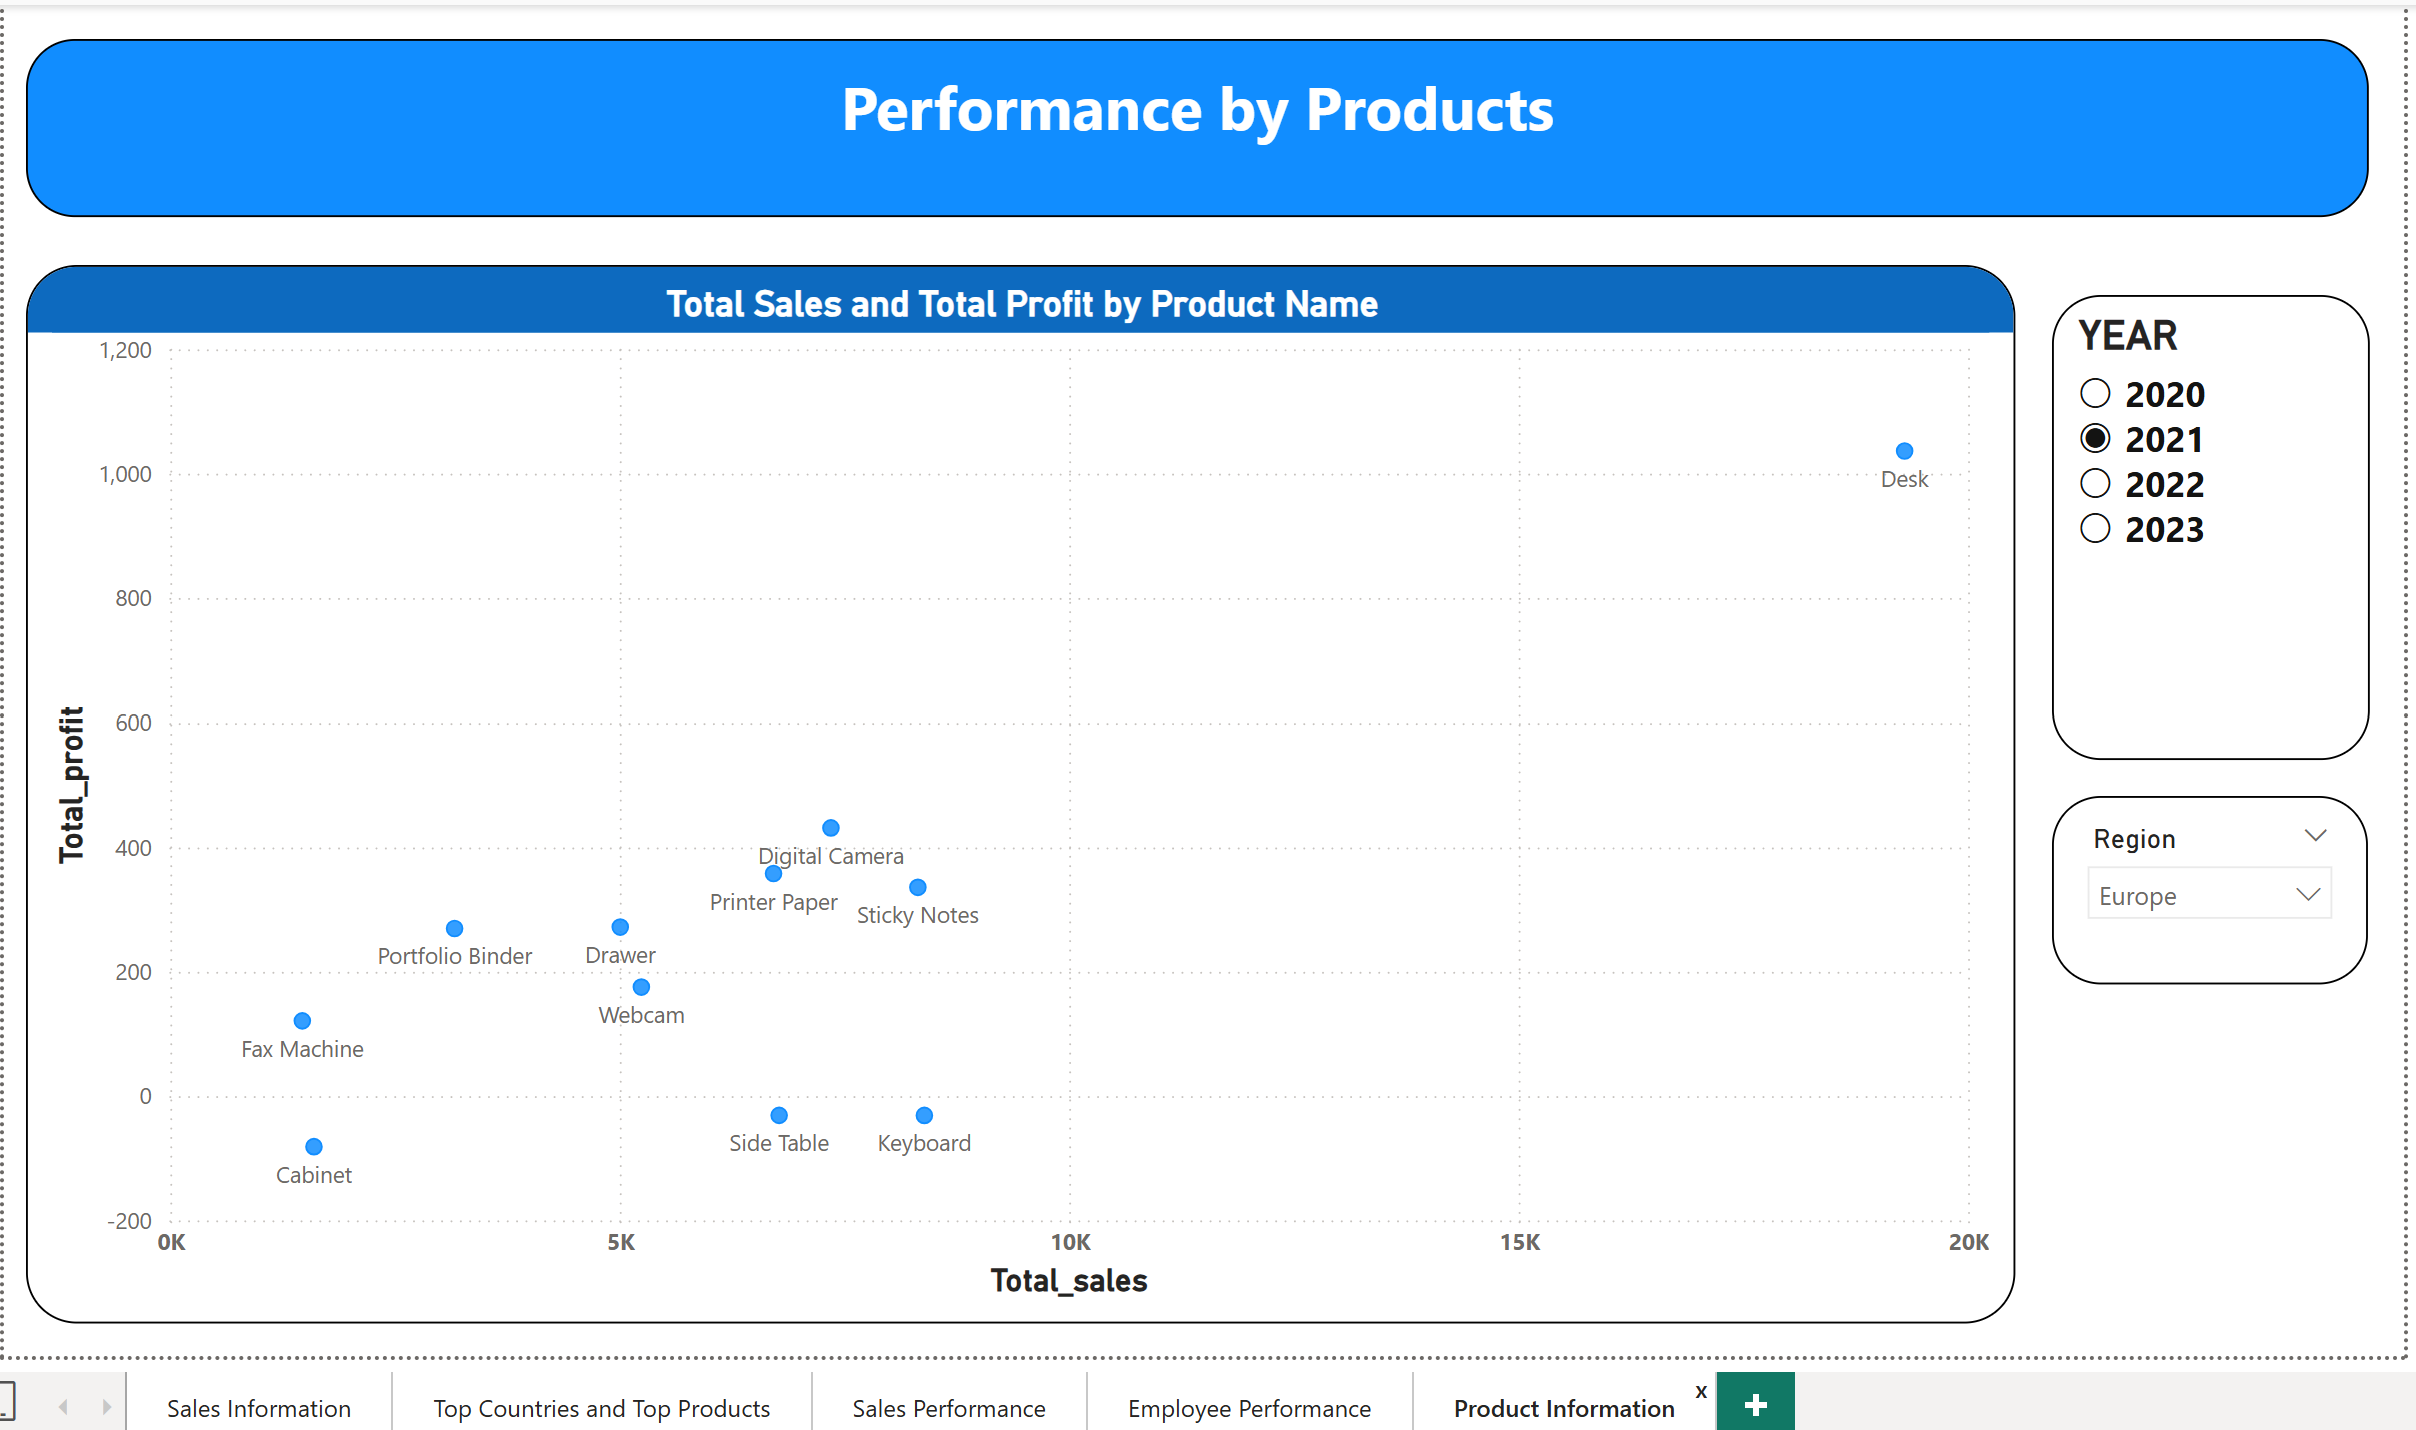

Layout of this report page (visuals, bound fields, positions):
{"tool":"powerbi","page":{"name":"Product Information","canvas":[1280,720],"ordinal":4},"visuals":[{"type":"scatterChart","title":"Total Sales and Total Profit by Product Name","fields":{"X":["Sales Information.Total_sales"],"Y":["Sales Information.Total_profit"],"Category":["Product Information.Product_Name"]},"box":[11.9,138.4,1061.2,564.2],"z":0},{"type":"listSlicer","fields":{"Values":["Date.YEAR"]},"box":[1092.1,154.4,169.3,247.7],"z":1000},{"type":"slicer","fields":{"Values":["Sales Information.Region"]},"box":[1092.1,421.3,168.5,100.5],"z":2000},{"type":"textbox","box":[11.9,18.5,1249.7,94.9],"z":3000}]}

Visuals, with their boxes on the page's 1280x720 design canvas (x1, y1, x2, y2). These are canvas units, not pixel positions in the 2416x1430 screenshot, which may show the page scaled, cropped or inside an application window:
"Total Sales and Total Profit by Product Name" scatterChart: 12:138:1073:703
listSlicer - Date.YEAR: 1092:154:1261:402
slicer - Sales Information.Region: 1092:421:1261:522
textbox: 12:18:1262:113
